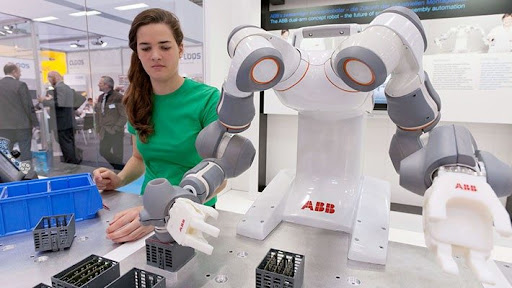person: (90, 8, 227, 242)
robot: (323, 5, 509, 284), (140, 23, 311, 257)
